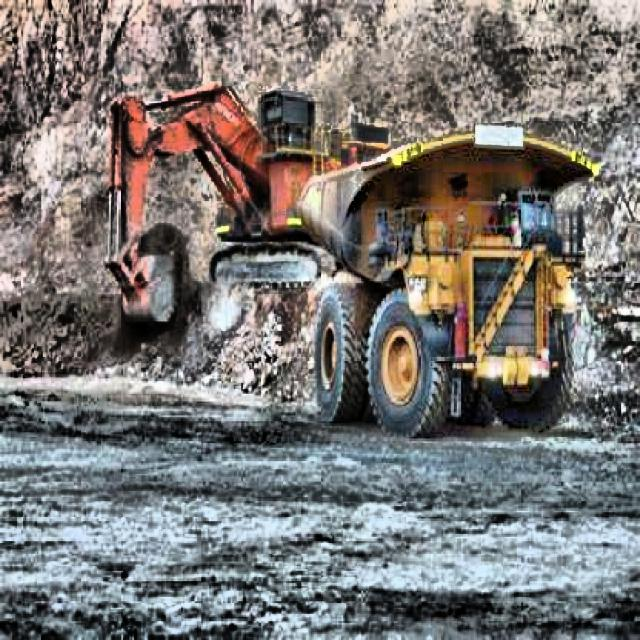dump_truck: (298, 123, 597, 445)
